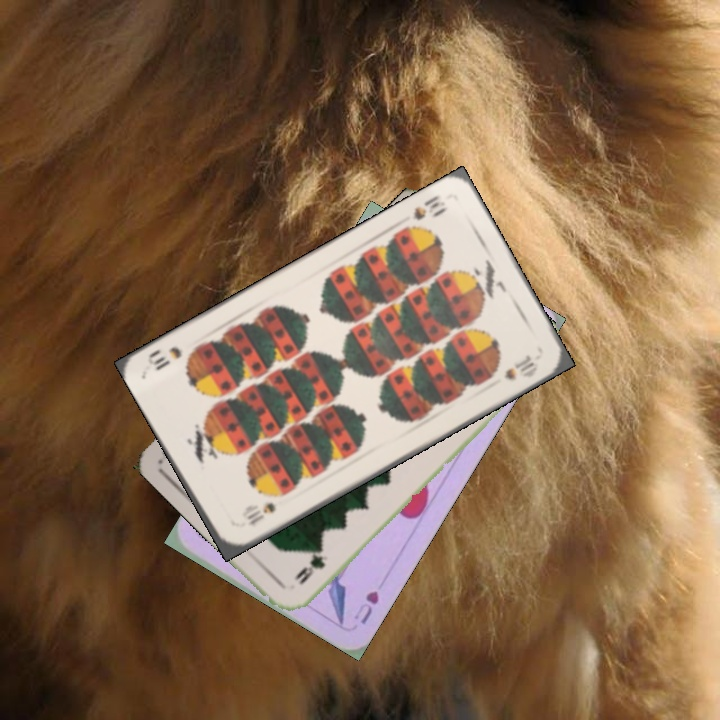G9: (290, 544, 328, 588)
HU: (350, 586, 382, 627)
S10: (409, 191, 451, 223), (243, 498, 279, 528)
